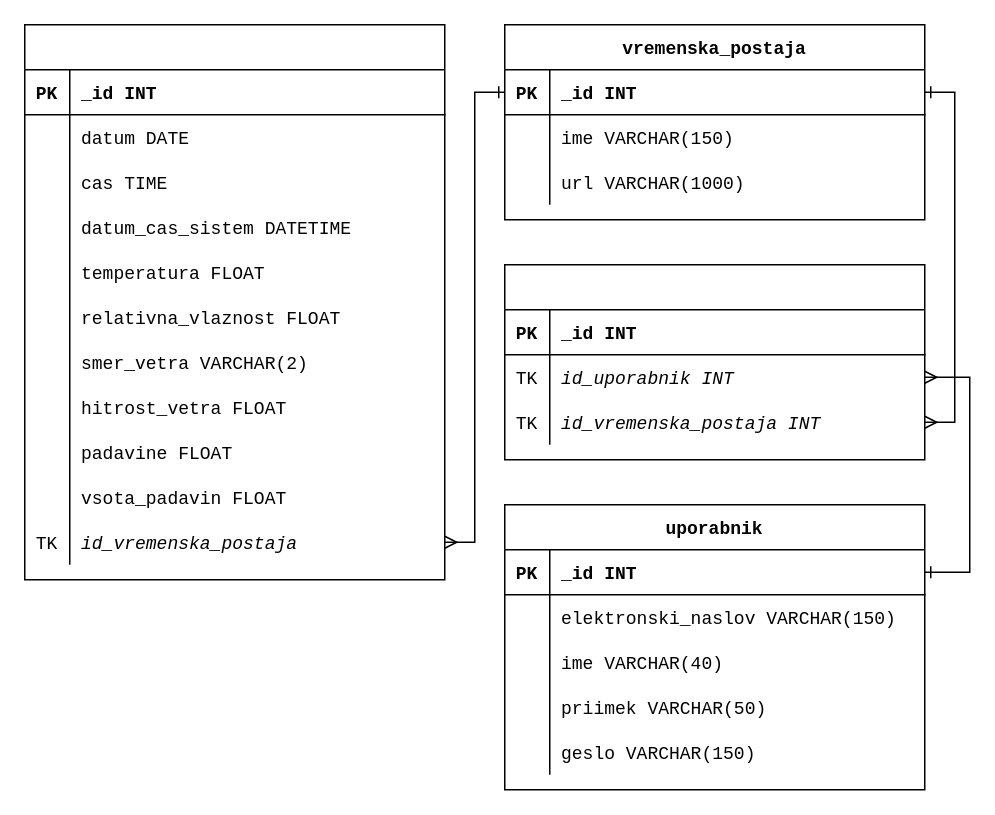
Some shapes in this 995 by 815 pixel diagram are drawn without their labels. The shapes that lost their labels are listed below. From the top down, each one's box as (x1, y1, x2, y2) in pixels, then its label:
(23, 23, 445, 580): vremenski_podatek
(503, 263, 925, 460): izbrana_postaja
